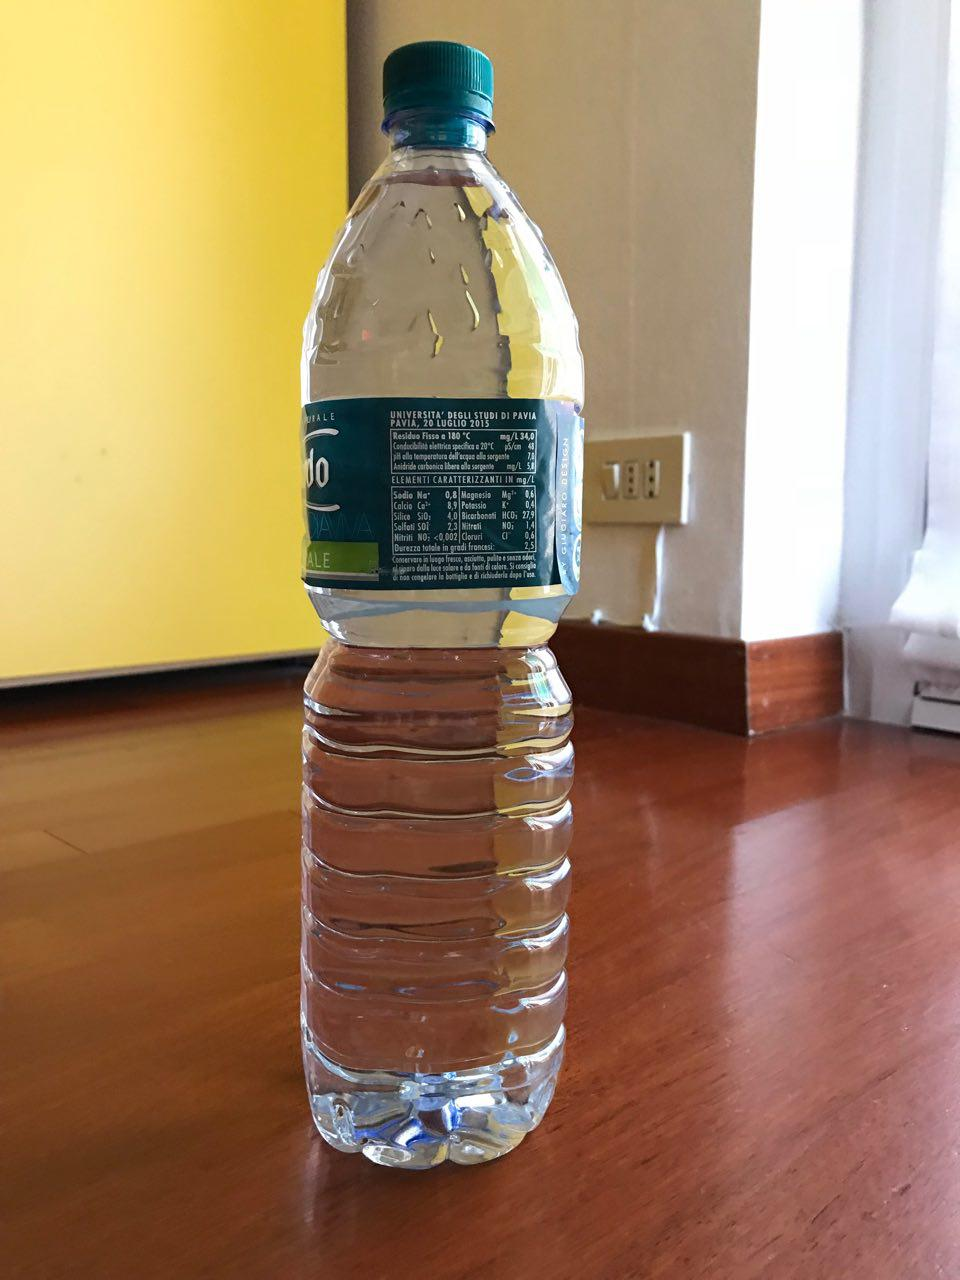san_bernardo: (298, 38, 586, 1174)
